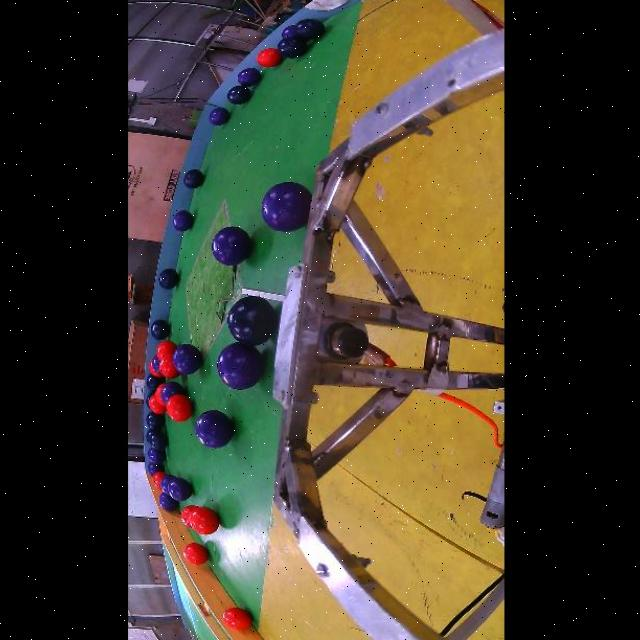B: (225, 296, 275, 346), (275, 36, 305, 58), (293, 19, 323, 40), (225, 85, 249, 105), (156, 268, 177, 289), (144, 431, 167, 450), (181, 169, 202, 189), (148, 319, 168, 340), (144, 412, 163, 429)
P: (259, 182, 309, 232), (215, 343, 262, 390), (210, 227, 249, 266), (193, 410, 232, 449), (171, 344, 201, 374), (165, 478, 190, 501), (159, 382, 184, 404), (236, 67, 259, 87), (156, 268, 177, 289), (171, 210, 191, 232), (148, 319, 168, 340), (156, 493, 177, 512), (207, 108, 228, 126), (144, 412, 163, 429), (157, 475, 173, 495), (146, 448, 164, 465), (146, 462, 163, 476), (280, 25, 295, 38)
R: (155, 340, 178, 380), (187, 506, 218, 535), (164, 394, 190, 423), (221, 607, 250, 629), (181, 543, 207, 565), (255, 48, 280, 67), (178, 505, 196, 527), (151, 471, 164, 489)
